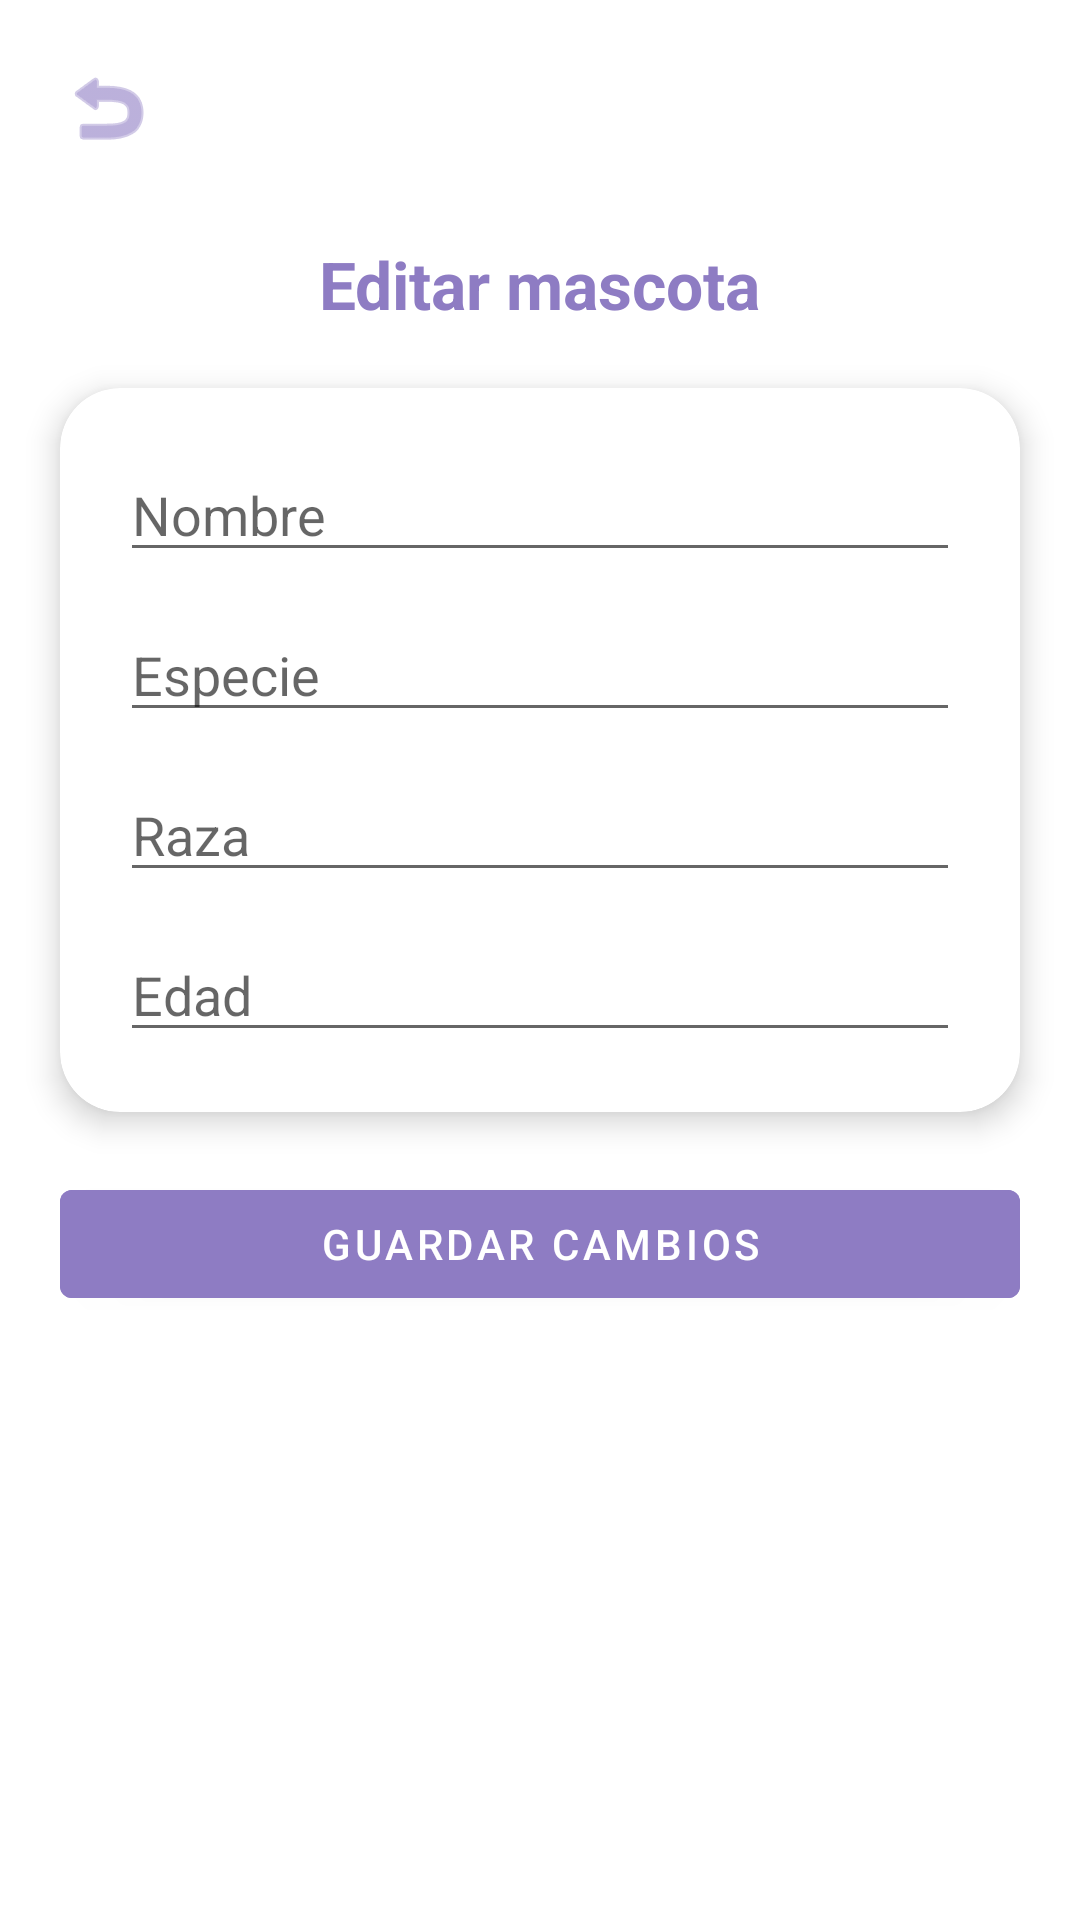

Screen size 1080 x 1920. Icon name, then its center in pixels as [x,y]:
Regresar: [109,109]
